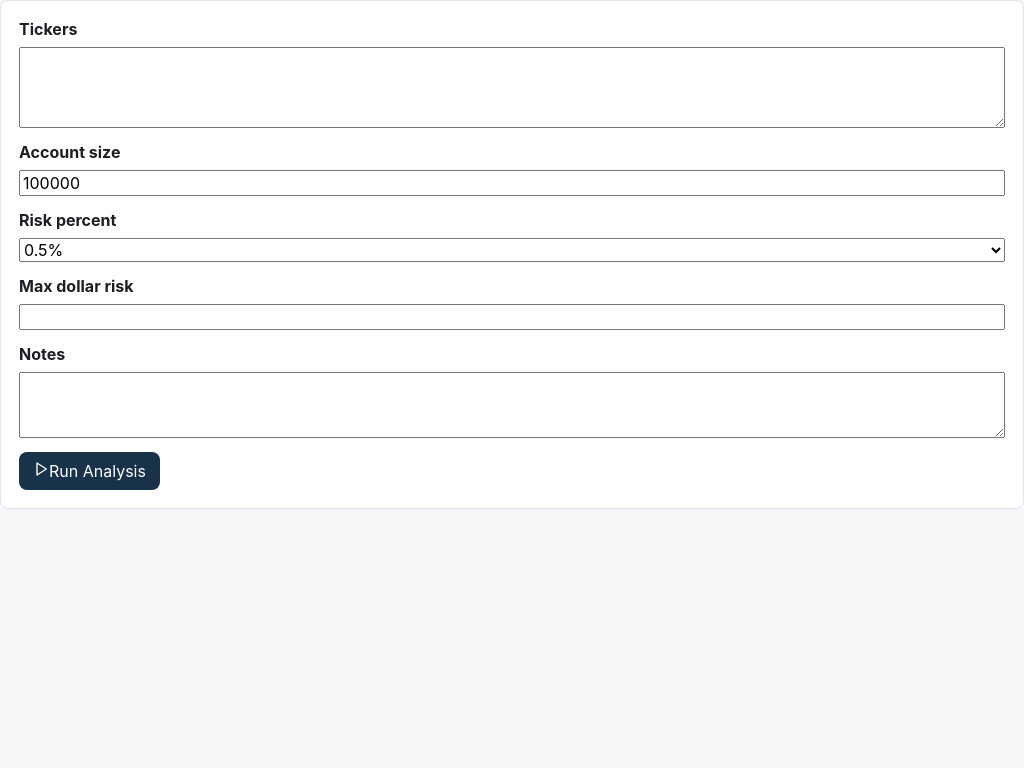
Test case: TickerInputPanel › shows validation errors for invalid account size and max dollar risk
Type "NVDA" into the text box labelled "Tickers" at (512, 88), box [19,47,1005,128]
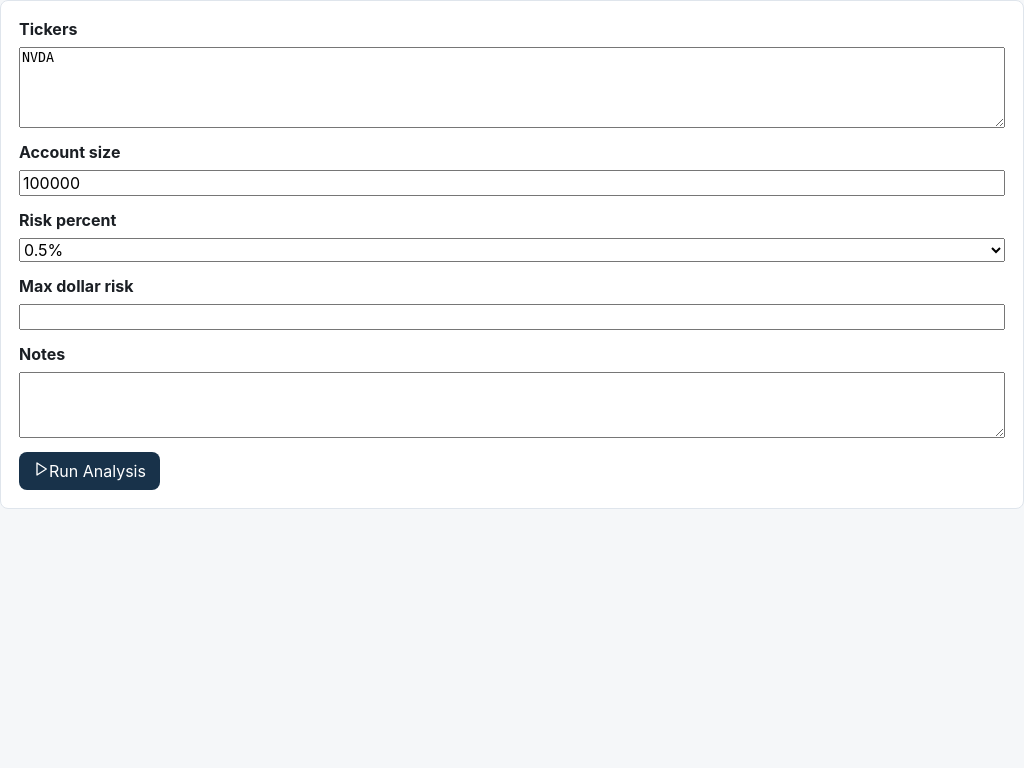
Clear the number field labelled "Account size" at (512, 183), box [19,170,1005,196]
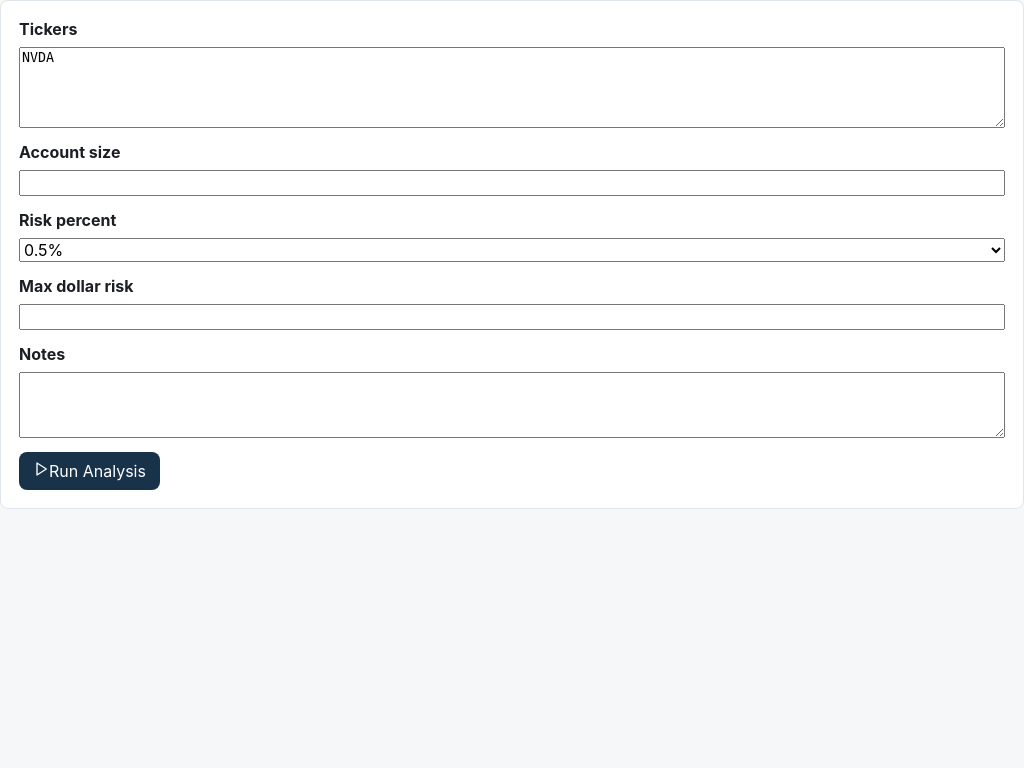
Click the button "Run Analysis" at (89, 471), box [19,452,160,490]
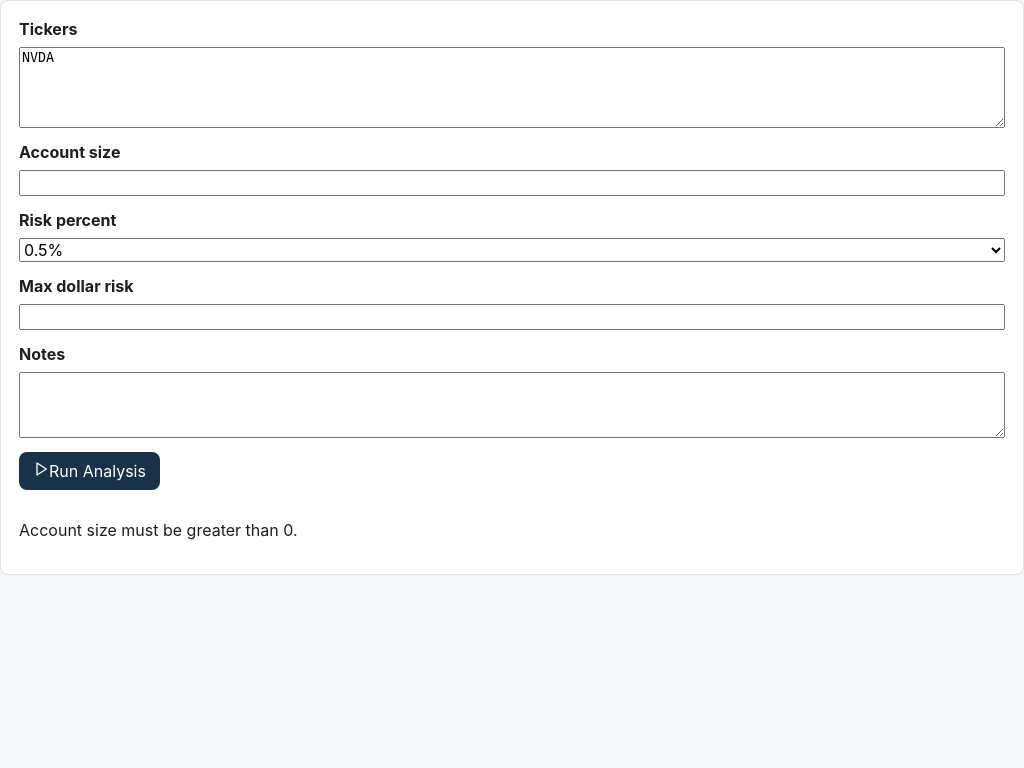
Check: the message reads "Account size must be greater than 0.", box [19,520,298,540]
Type "100000" into the number field labelled "Account size" at (512, 183), box [19,170,1005,196]
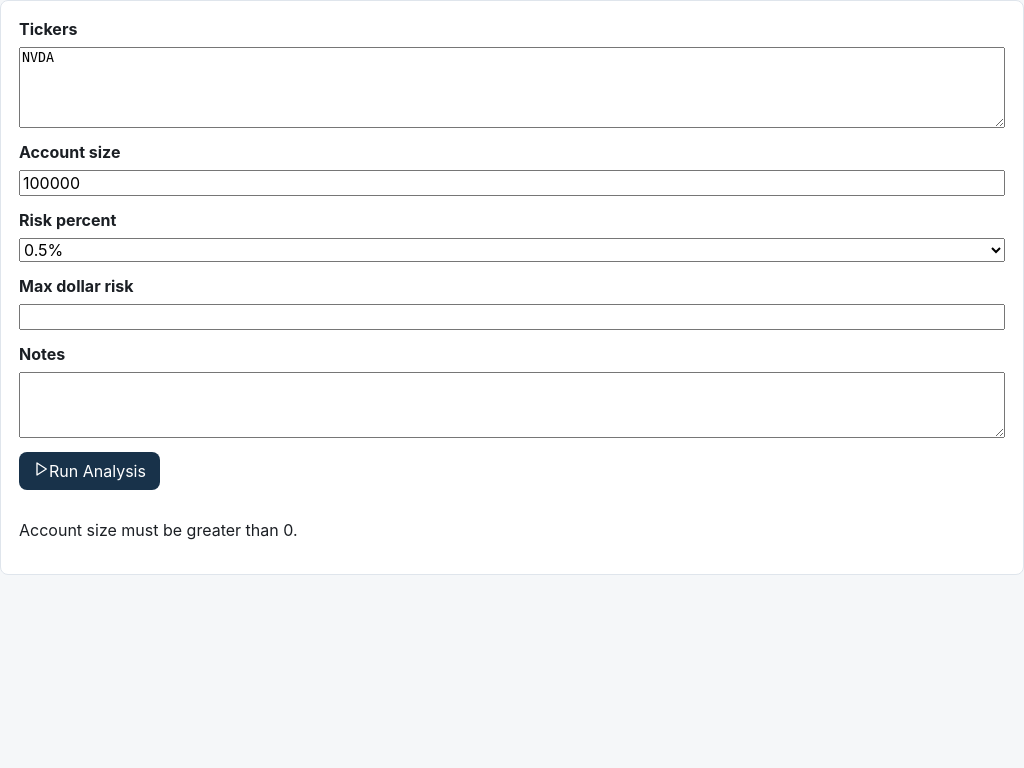
Type "0" into the number field labelled "Max dollar risk" at (512, 317), box [19,304,1005,330]
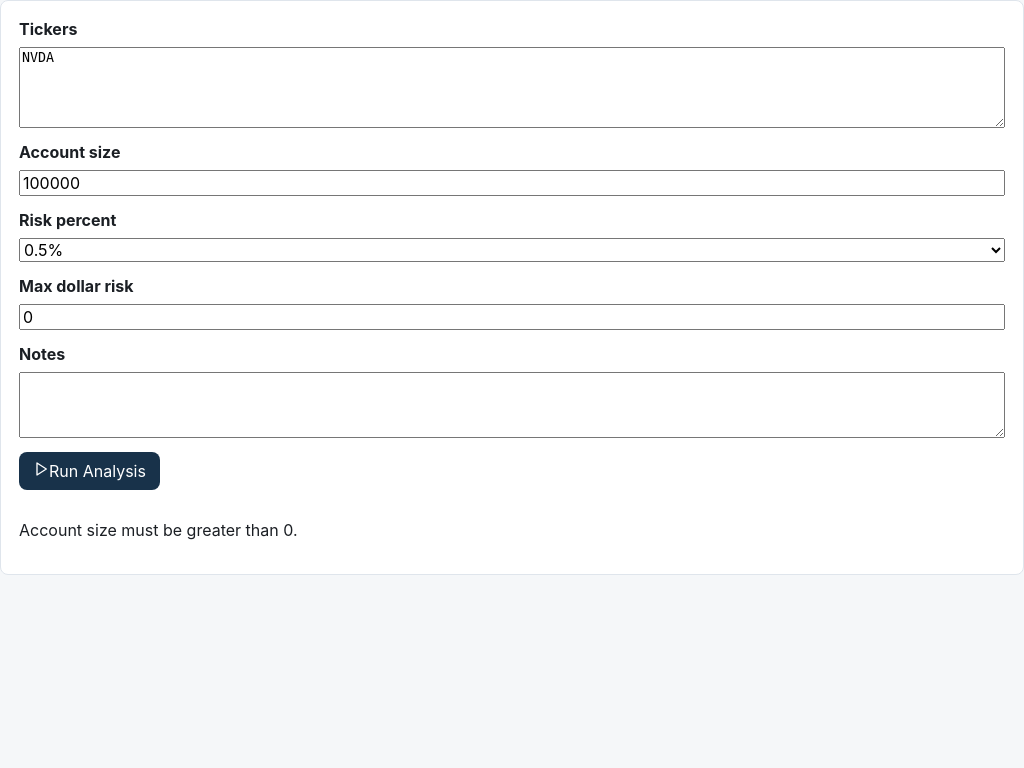
Click the button "Run Analysis" at (89, 471), box [19,452,160,490]
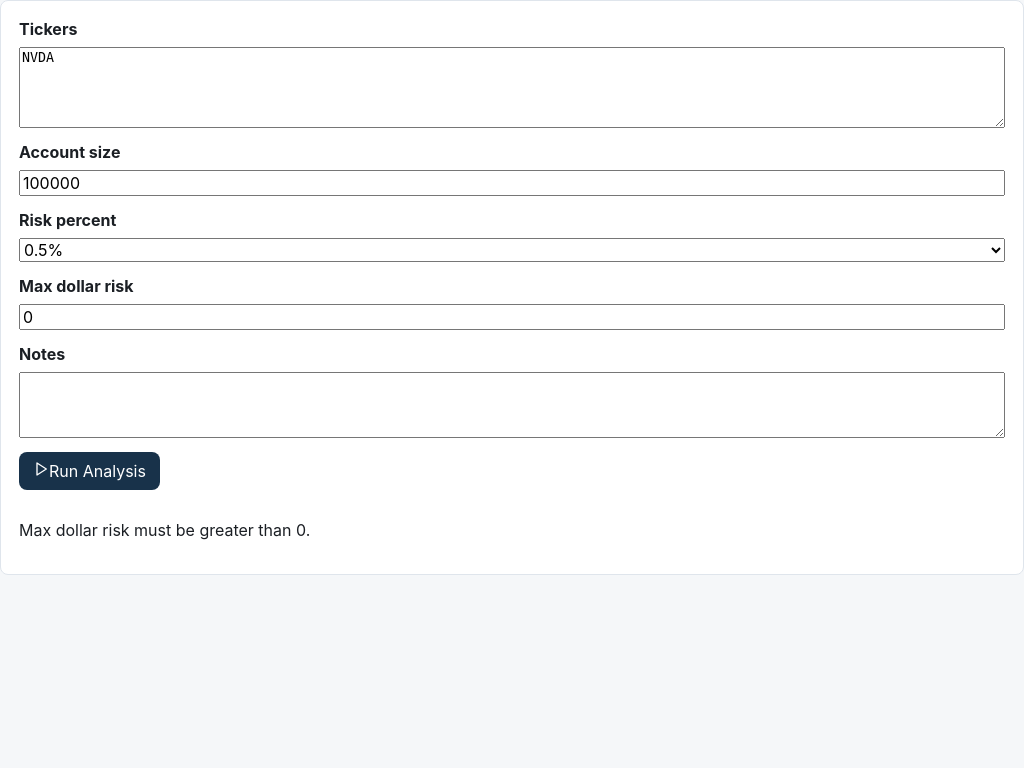
Check: the message reads "Max dollar risk must be greater than 0.", box [19,520,310,540]
